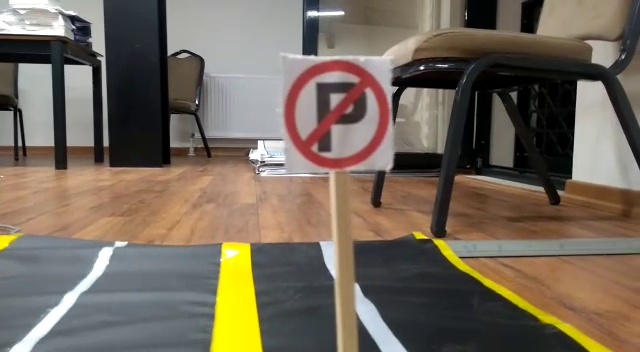park_yapilmaz: (280, 54, 391, 175)
